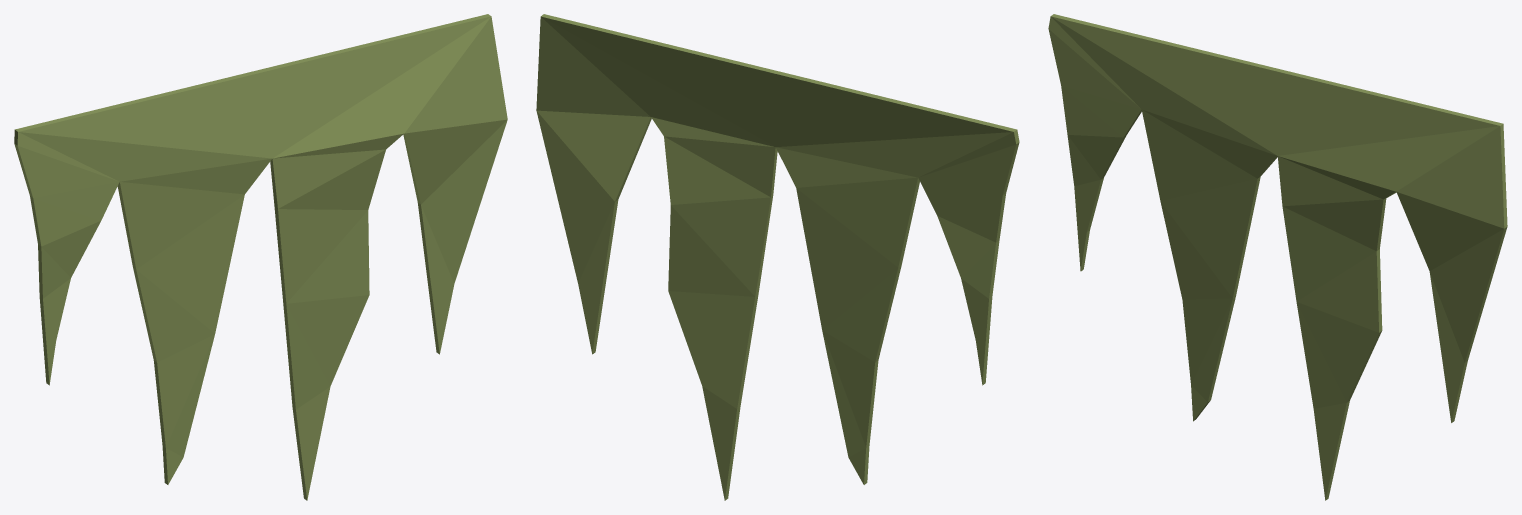
Rendered from Wh_Creeper_03.fbx.
3 views of the same model, side by side, from view 1: azimuth 30°, elevation 25°; view 2: azimuth 150°, elevation 25°; view 3: azimuth 330°, elevation 25° (orthographic). The views are drawn at different scales.
Visible parts, largest first — view 1: Plane.592; view 2: Plane.592; view 3: Plane.592.
Part boxes in pixels (left/top/right/bottom): Plane.592: left=14, top=14, right=507, bottom=500; Plane.592: left=536, top=14, right=1019, bottom=500; Plane.592: left=1048, top=14, right=1507, bottom=500.
Bounding box in the file's own units: 308 × 266 × 15.96.
